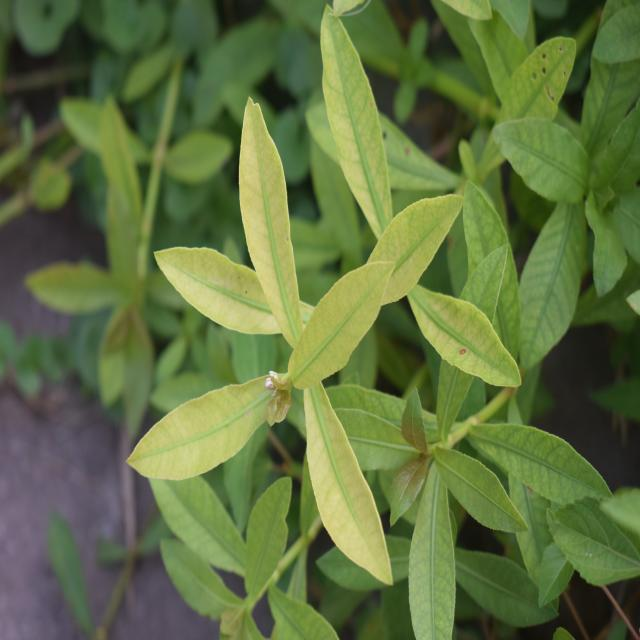Alligatorweed: (154, 79, 480, 574)
